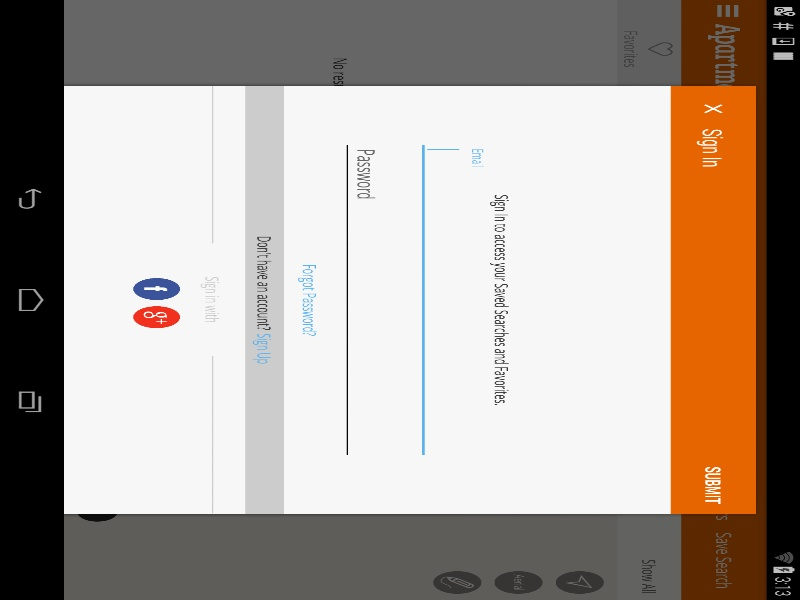Button: (194, 20, 269, 60), (593, 290, 640, 312), (653, 290, 700, 312)
